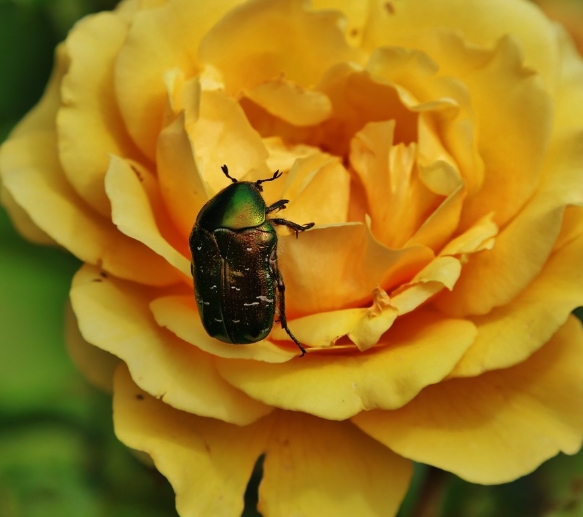Cetonia_aurata: (189, 161, 323, 365)
